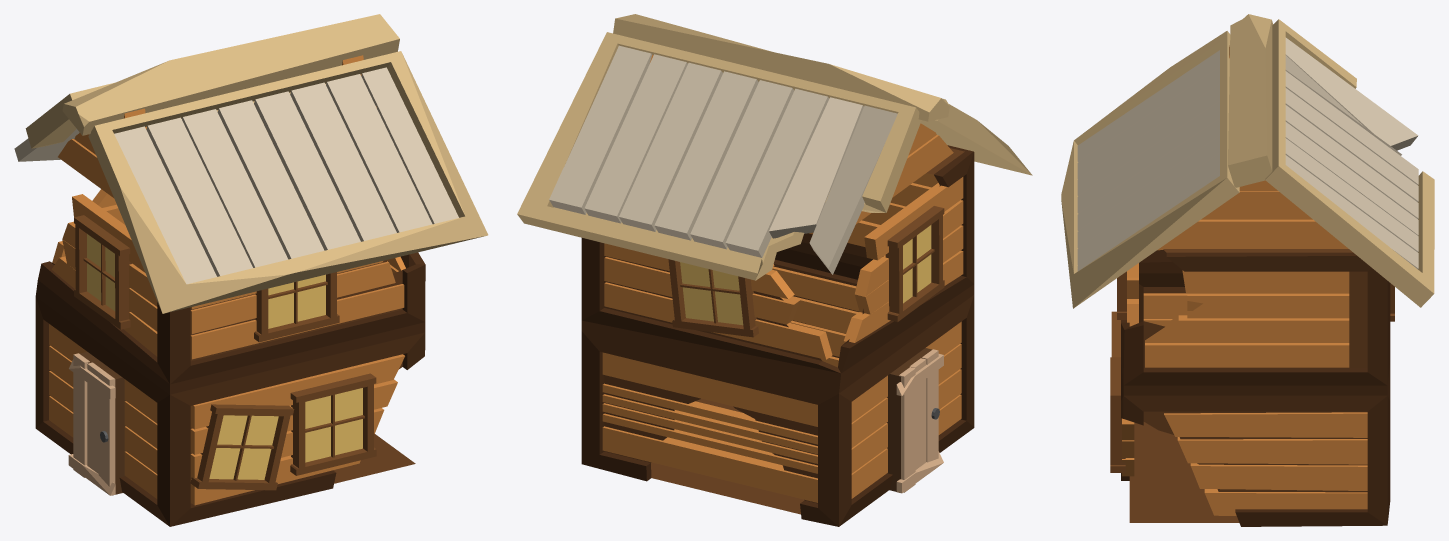
Rendered from RUIN_HOUSE1.fbx.
The picture shows the model from 3 angles, left to right: view 1: azimuth 30°, elevation 25°; view 2: azimuth 150°, elevation 25°; view 3: azimuth 270°, elevation 25°; orthographic projection. The views are drawn at different scales.
Visible parts, largest first — view 1: Cube.250; view 2: Cube.250; view 3: Cube.250.
Part boxes in pixels (x1,y1,x2,y2): Cube.250: [14, 14, 488, 526]; Cube.250: [517, 14, 1032, 526]; Cube.250: [1061, 14, 1434, 526].
Size of the model in its own units: 2450 by 2835 by 2457.
